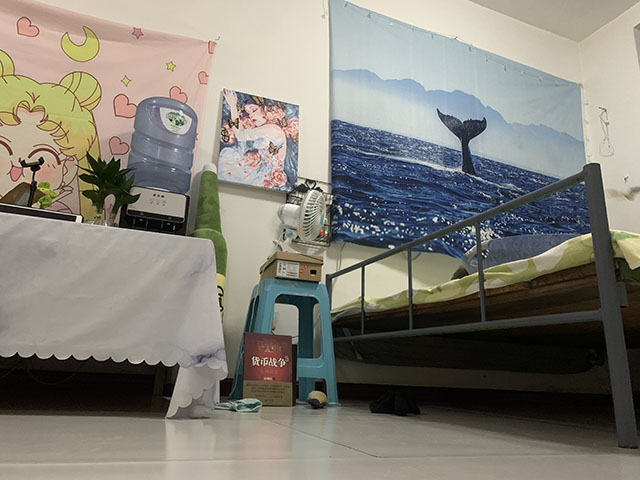bed: (323, 161, 640, 450)
book: (241, 331, 299, 408)
socks: (215, 398, 264, 413)
stool: (227, 278, 341, 407)
table: (1, 211, 231, 423)
